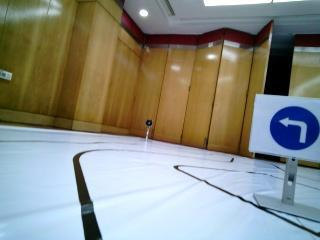left: (259, 99, 320, 157)
